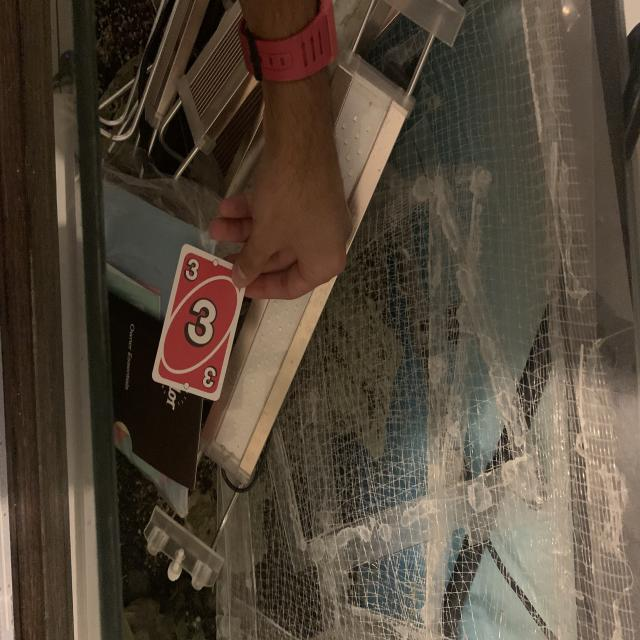lred-3: (181, 254, 203, 284)
